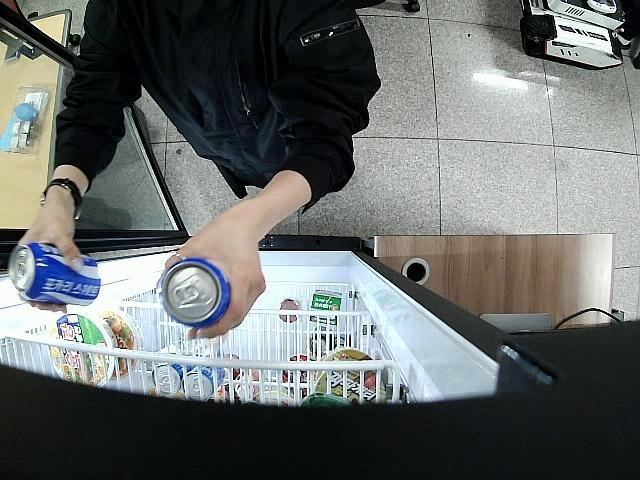13_pocariSweat: (9, 244, 100, 308), (156, 256, 232, 330)
